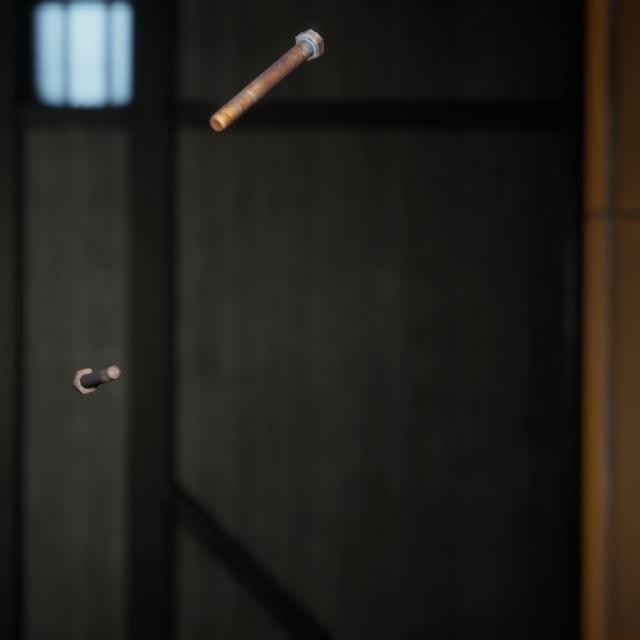bolt: (205, 13, 328, 124), (67, 341, 125, 381)
